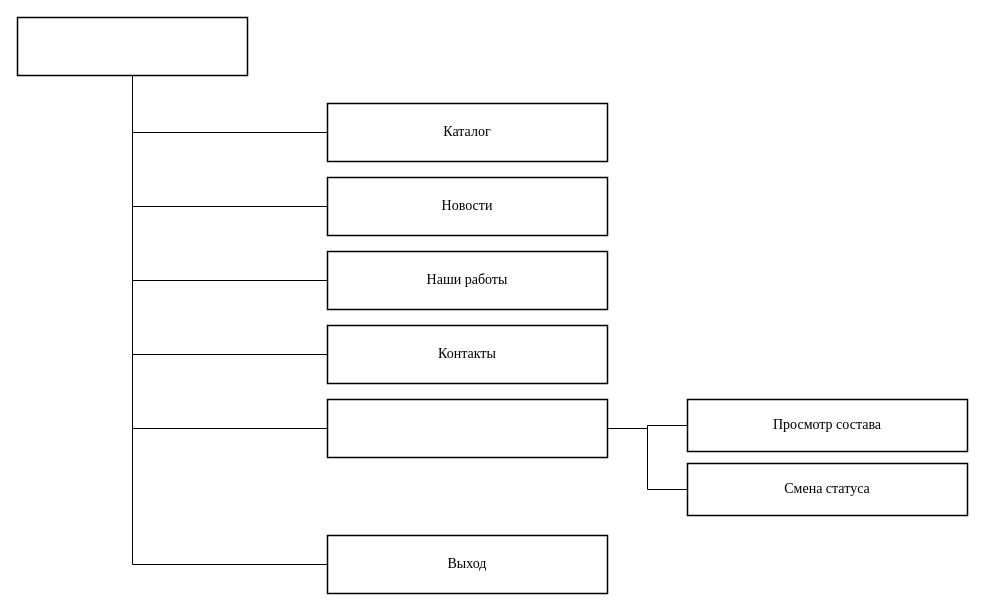
Some shapes in this 986 by 612 pixel diagram are drawn without their labels. Each missing label, with the centre of its shape:
Главная: pixel 132 46
Заказы клиентов: pixel 467 428
